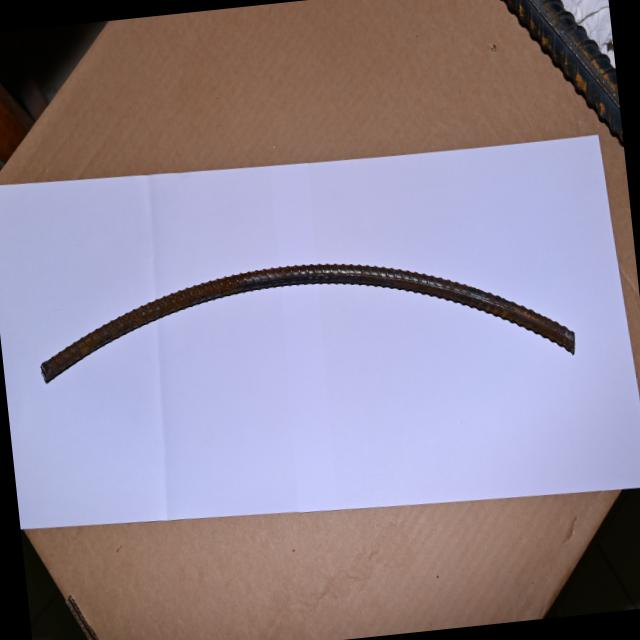ribbed bar: (28, 230, 586, 418), (482, 0, 623, 160)
